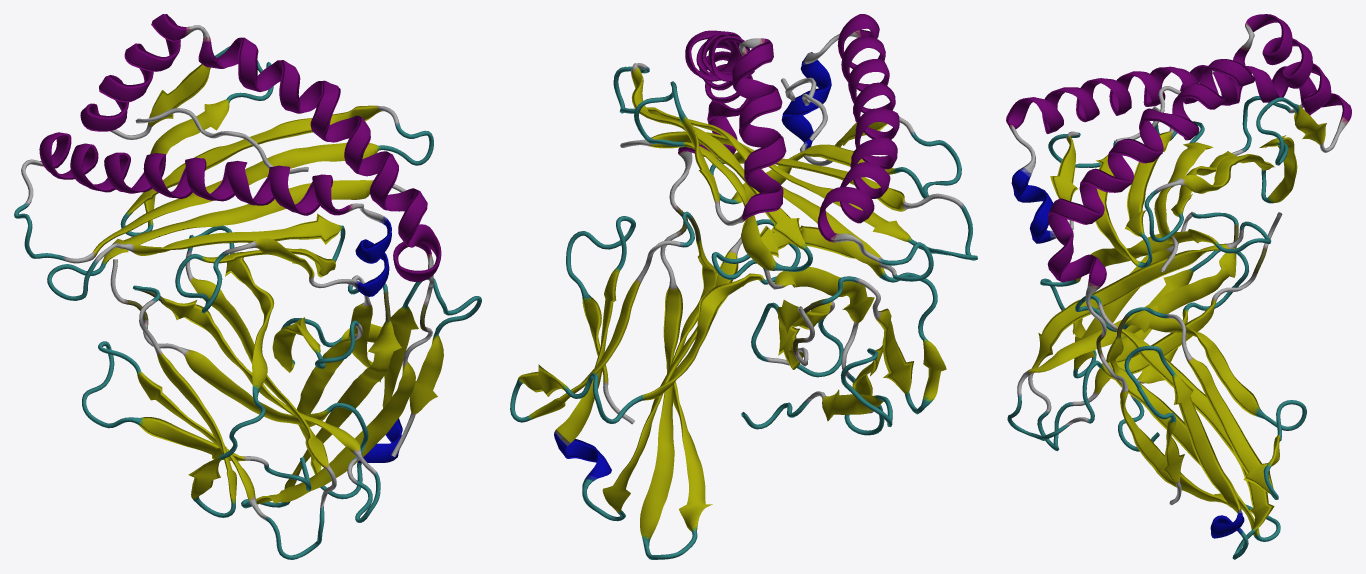
The model's file is 2vaa-ribbon-5.obj.
3 renders of one model, left to right at view 1: azimuth 30°, elevation 25°; view 2: azimuth 150°, elevation 25°; view 3: azimuth 270°, elevation 25°, orthographic. The views are drawn at different scales.
Parts seen in each view (by area): view 1: vmd_mol0_rep0; view 2: vmd_mol0_rep0; view 3: vmd_mol0_rep0.
Part boxes in pixels (x1,y1,x2,y2): vmd_mol0_rep0: (14, 14, 481, 559); vmd_mol0_rep0: (510, 14, 977, 559); vmd_mol0_rep0: (1006, 14, 1351, 559).
Bounding box in the file's own units: 2.47 × 2.97 × 1.95.
